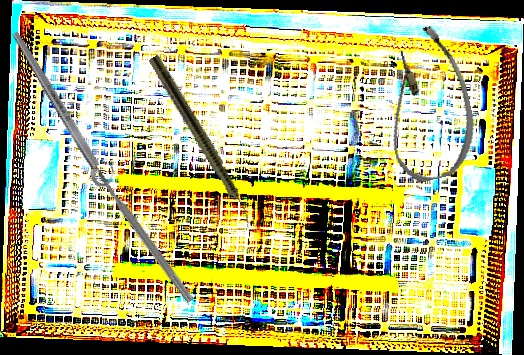Cannula: (369, 21, 485, 187)
Fixation Ring: (87, 158, 205, 306)
Handpiece: (145, 54, 260, 229)
Scalpel Handle: (10, 28, 119, 201)
